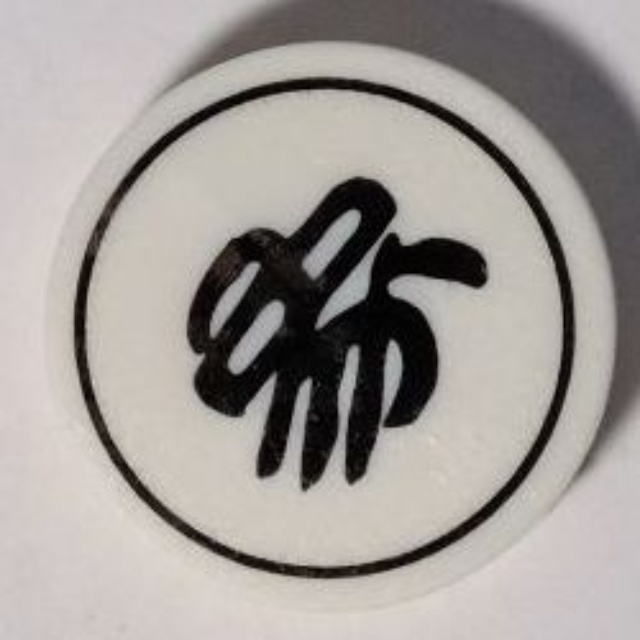black_bo: (45, 35, 626, 616)
